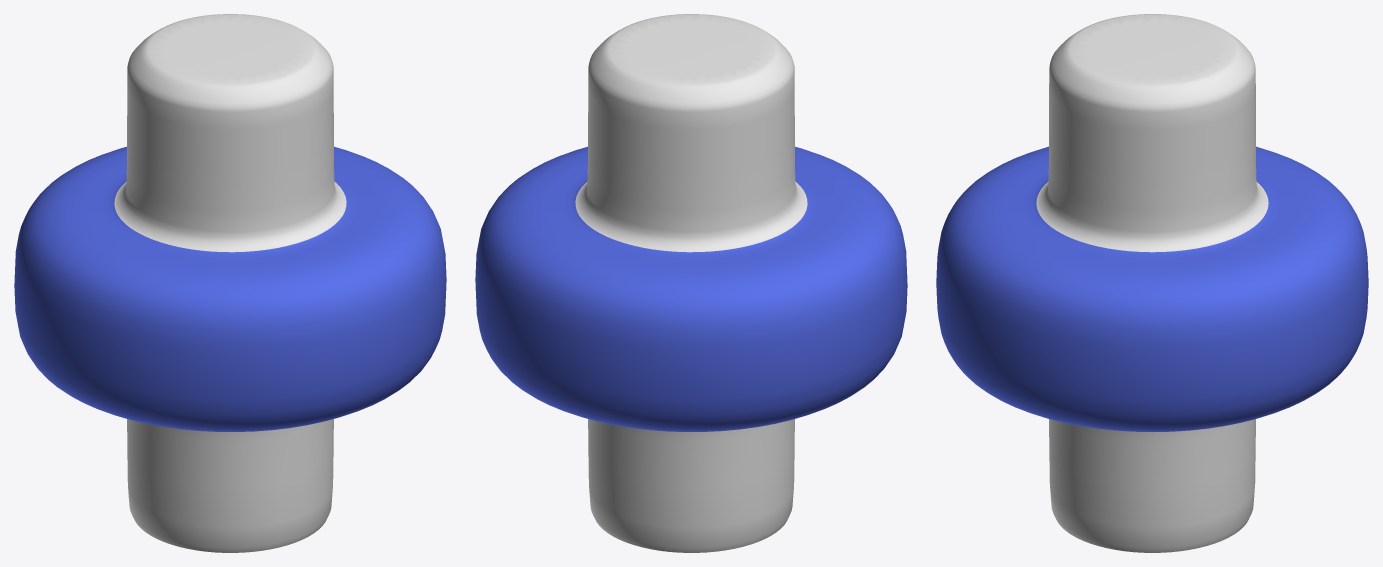
The model's file is Bumper.fbx.
3 renders of one model, left to right at view 1: azimuth 30°, elevation 25°; view 2: azimuth 150°, elevation 25°; view 3: azimuth 270°, elevation 25°, orthographic.
Parts seen in each view (by area): view 1: Cylinder; view 2: Cylinder; view 3: Cylinder.
Part boxes in pixels (x1,y1,x2,y2): Cylinder: [14, 14, 446, 552]; Cylinder: [475, 14, 907, 552]; Cylinder: [936, 14, 1368, 552].
Size of the model in its own units: 416 by 495 by 416.
